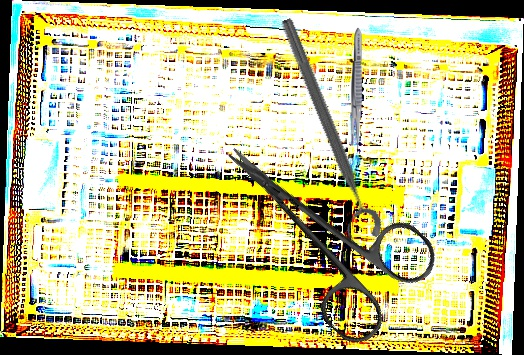Dressing Forceps: (349, 26, 365, 153)
Fixation Ring: (262, 14, 387, 248)
Iris Scissors: (189, 100, 447, 352)
